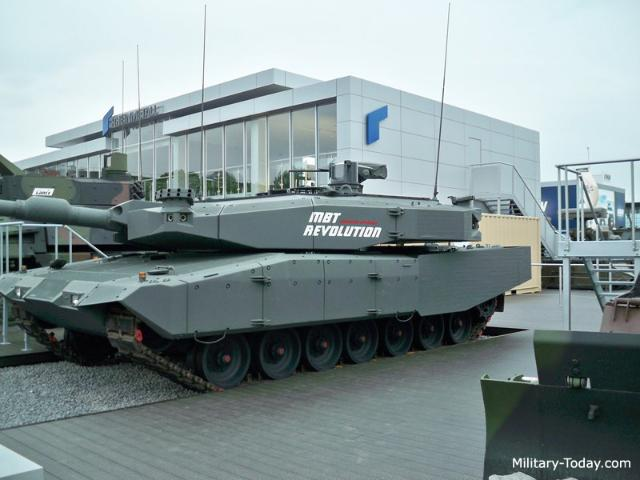tank: (9, 160, 534, 369)
